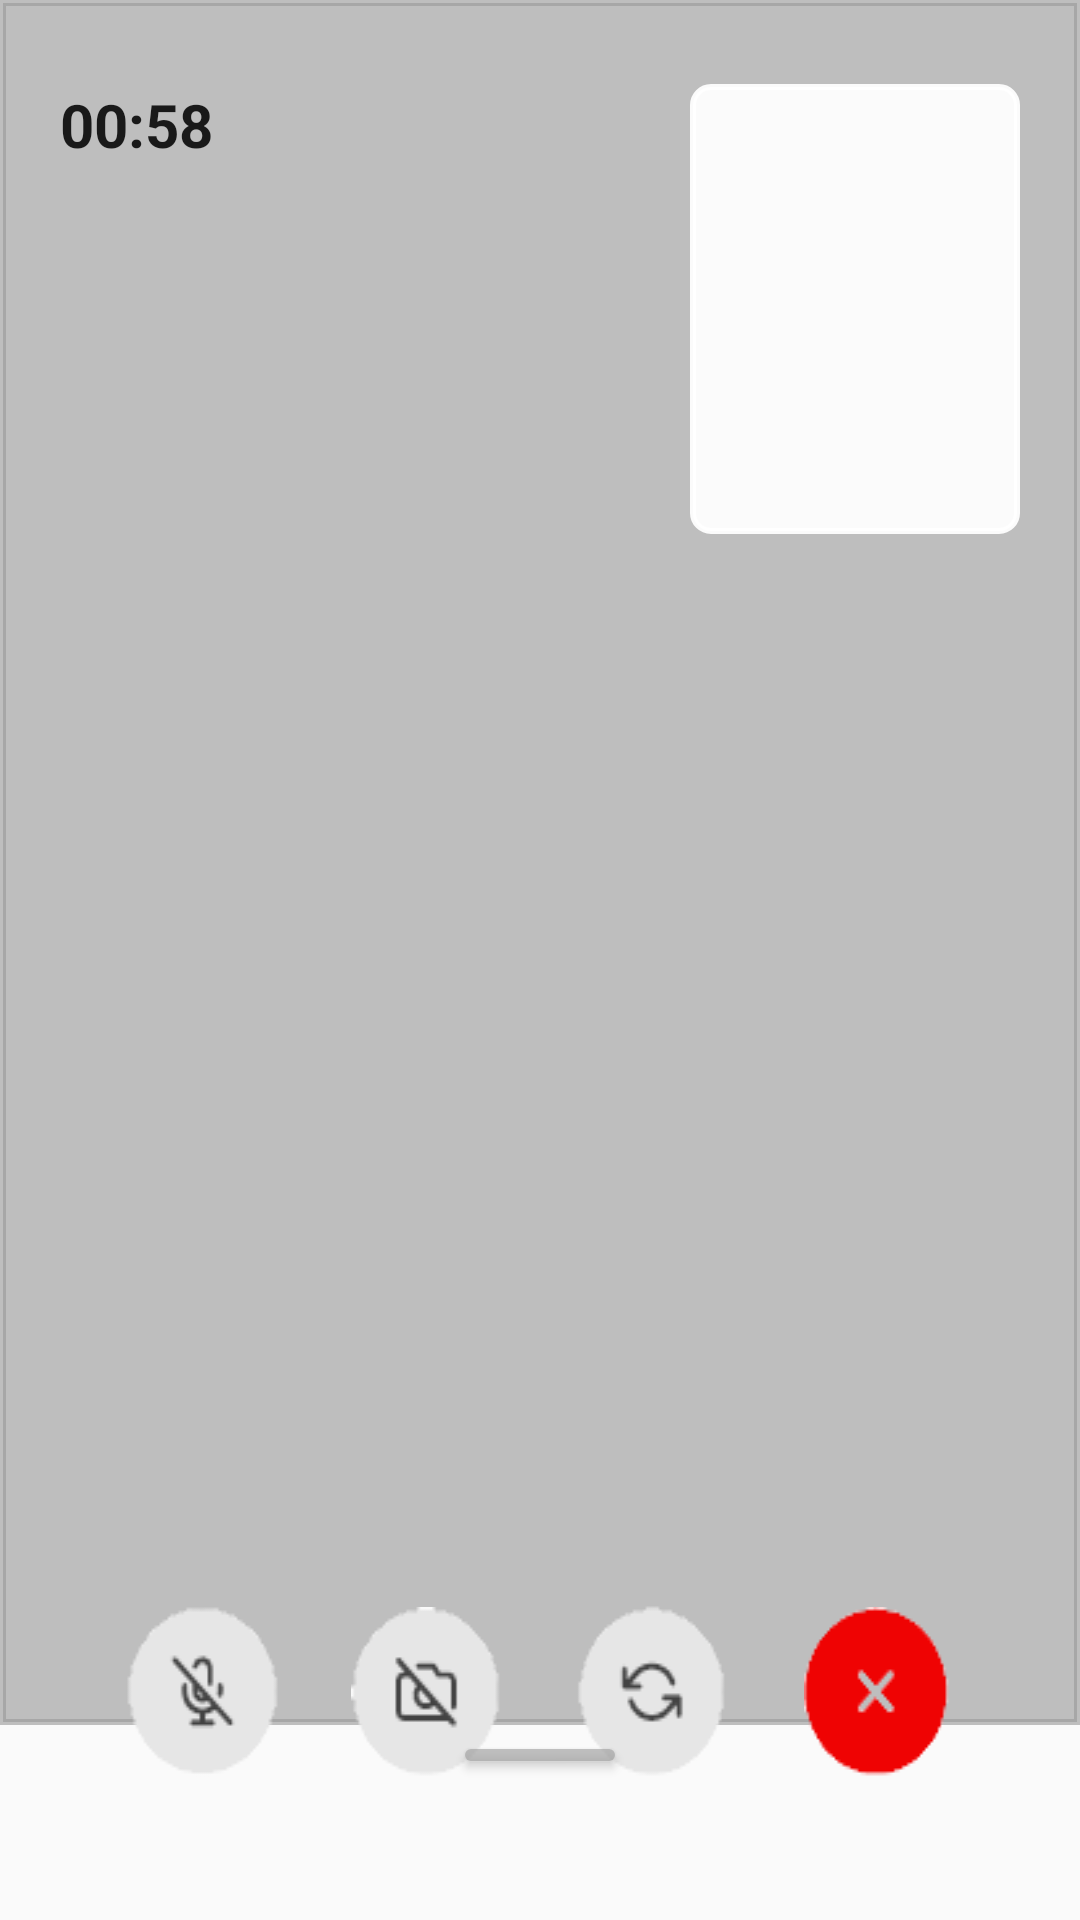

Screen size 1080*1920. Icon name, then its center in pixels as (x=x, y=y):
camera off: (x=427, y=1694)
end call: (x=877, y=1694)
mute: (x=202, y=1693)
reverse cam call: (x=652, y=1696)
